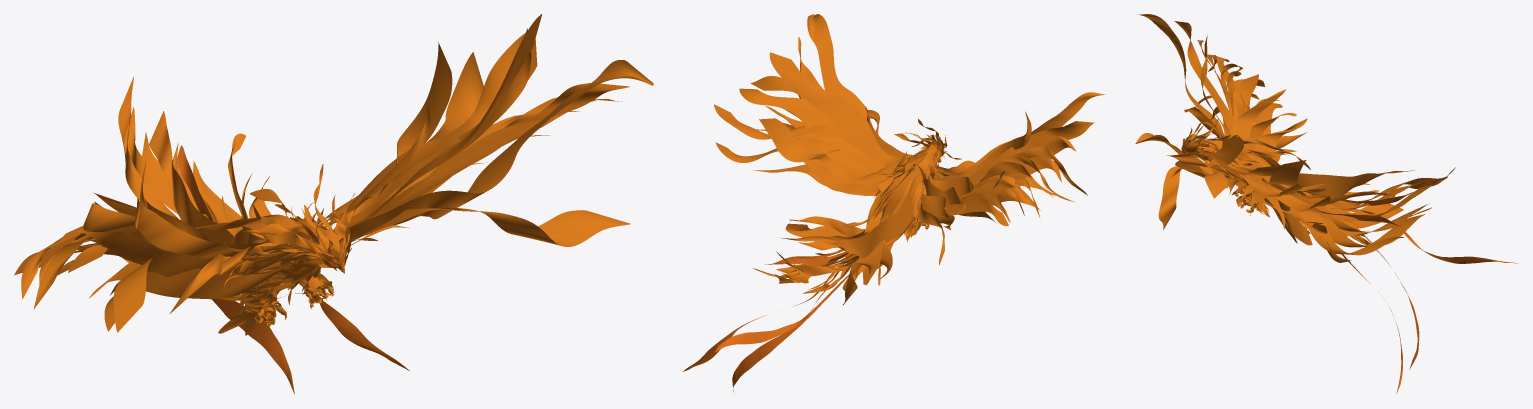
The model's file is phoenix.fbx.
3 views of the same model, side by side, from view 1: azimuth 30°, elevation 25°; view 2: azimuth 150°, elevation 25°; view 3: azimuth 270°, elevation 25° (orthographic). The views are drawn at different scales.
Visible parts, largest first — view 1: Object_308; view 2: Object_308; view 3: Object_308.
Boxes of the visible parts, x1,y1,x2,y2 form: Object_308: (14,14,653,394); Object_308: (683,14,1105,391); Object_308: (1135,14,1517,393).
Size of the model in its own units: 8720 by 6720 by 8930.
